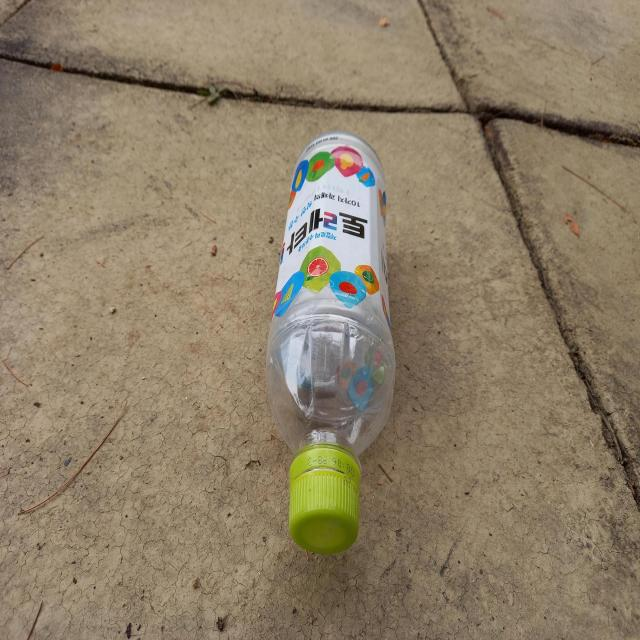plastic: (266, 130, 396, 554)
